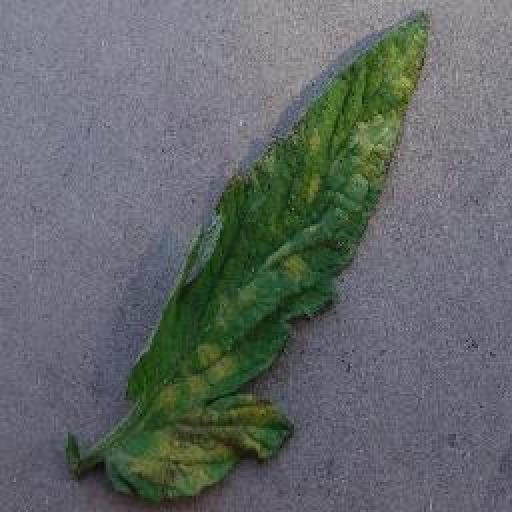Leaf Mold: (112, 6, 430, 502)
